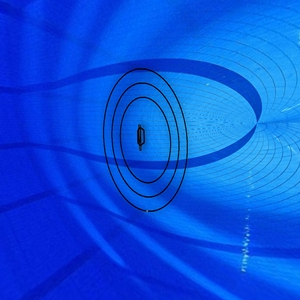circle: (101, 66, 194, 215)
submarine: (136, 123, 147, 158)
